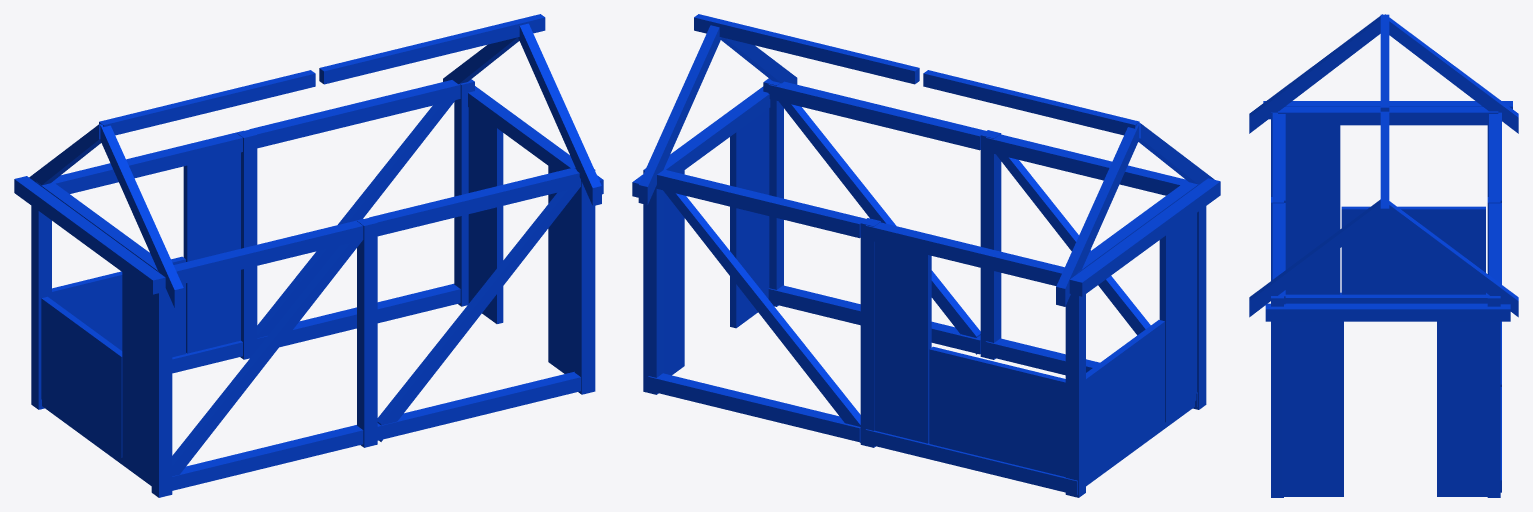
The model's file is Hut_01.fbx.
3 renders of one model, left to right at view 1: azimuth 30°, elevation 25°; view 2: azimuth 150°, elevation 25°; view 3: azimuth 270°, elevation 25°, orthographic. The views are drawn at different scales.
Parts seen in each view (by area): view 1: Hut_01; view 2: Hut_01; view 3: Hut_01.
Boxes of the visible parts, <box> form: Hut_01: <box>14,14,603,497</box>; Hut_01: <box>632,14,1220,497</box>; Hut_01: <box>1249,14,1518,497</box>.
Size of the model in its own units: 647 by 441 by 366.
